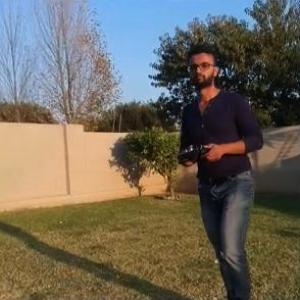follow: (176, 33, 276, 299)
